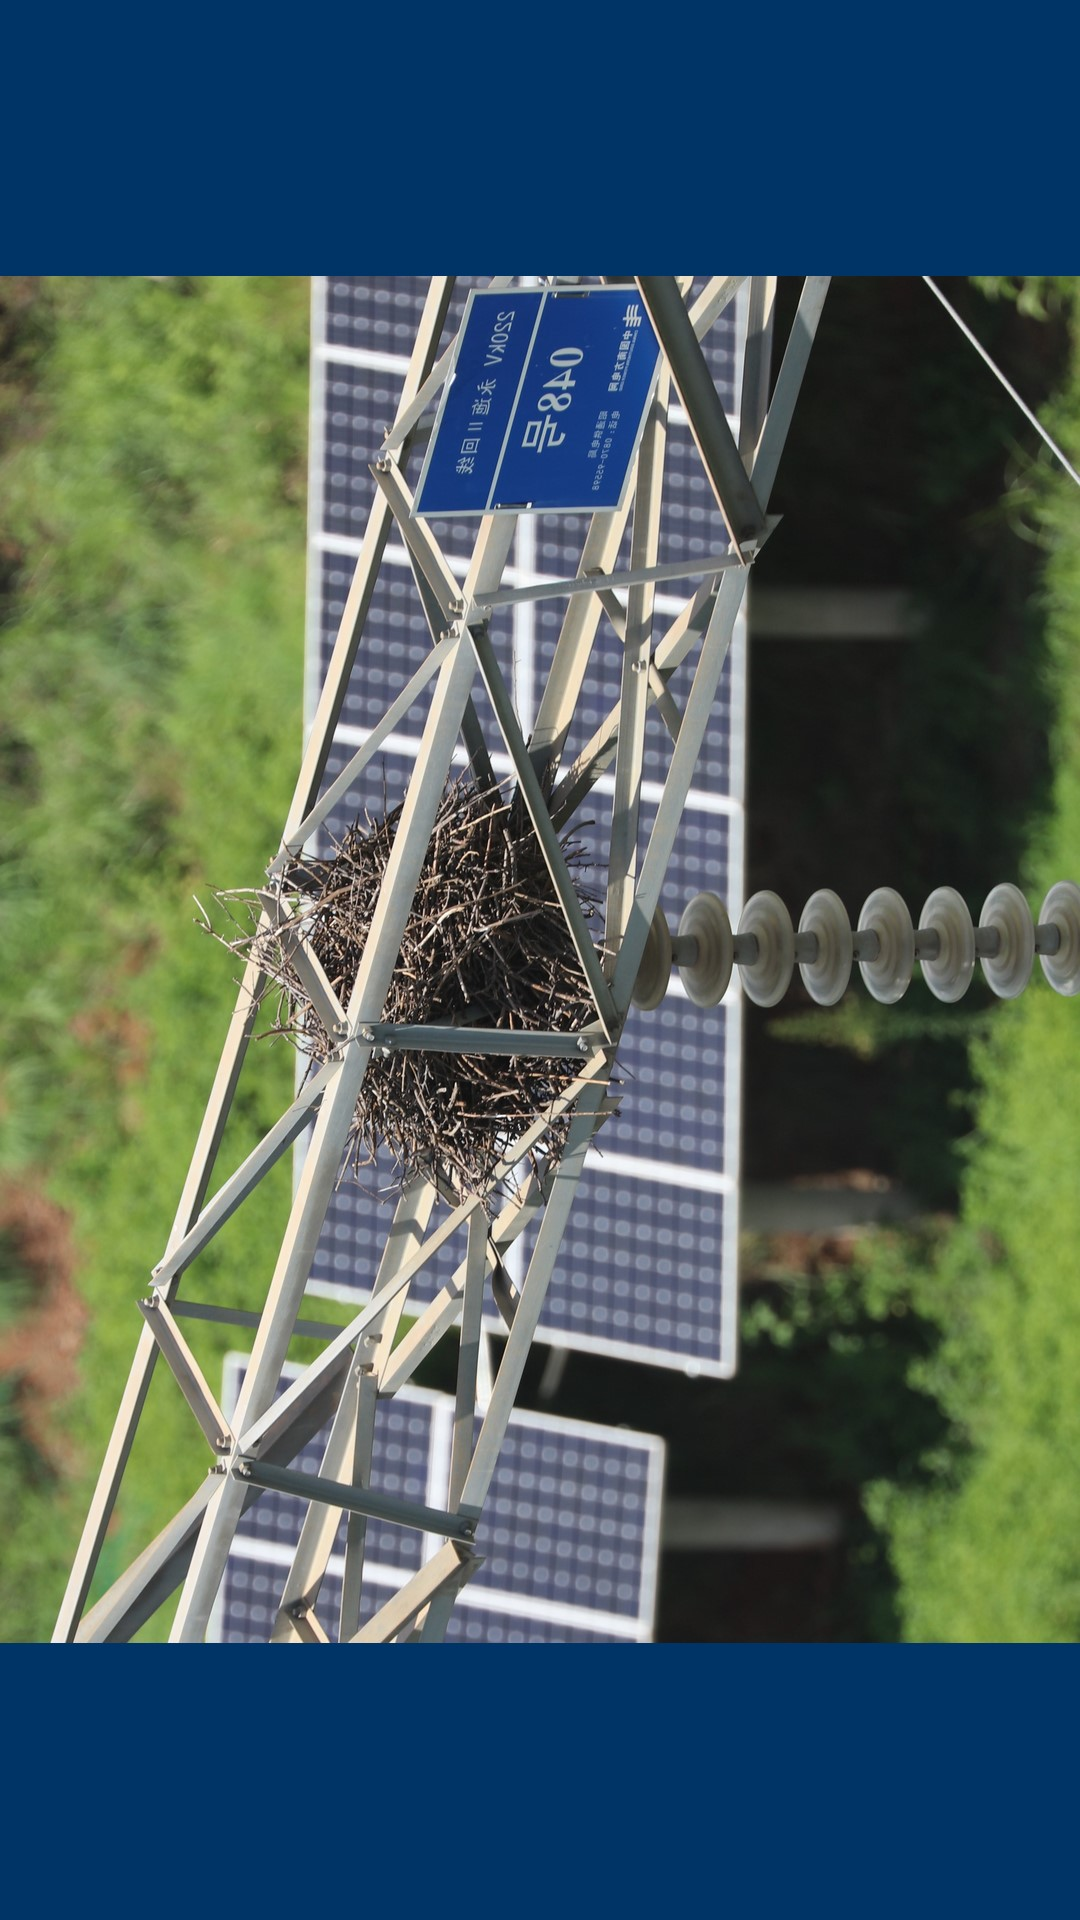niaowo: (264, 764, 630, 1189)
